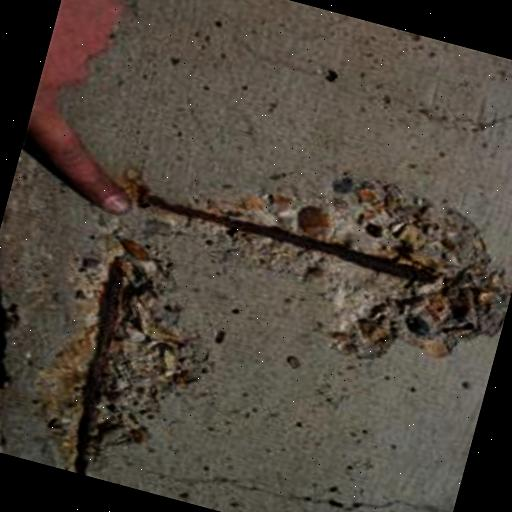spalling: (40, 174, 507, 475)
